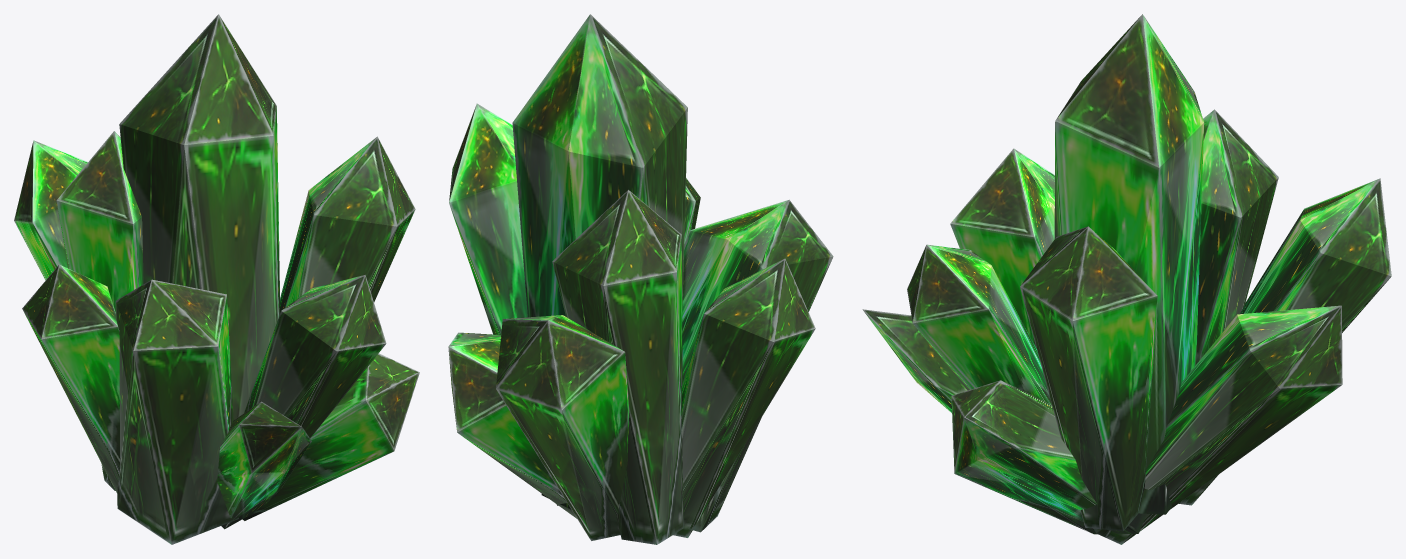
File: arcanum_shard.glb
The picture shows the model from 3 angles, left to right: view 1: azimuth 30°, elevation 25°; view 2: azimuth 150°, elevation 25°; view 3: azimuth 270°, elevation 25°; orthographic projection. The views are drawn at different scales.
Parts seen in each view (by area): view 1: Object_3.351; view 2: Object_3.351; view 3: Object_3.351.
Boxes of the visible parts, x1,y1,x2,y2 form: Object_3.351: [14, 14, 419, 544]; Object_3.351: [448, 14, 833, 544]; Object_3.351: [862, 14, 1391, 544].
Bounding box in the file's own units: 1.04 × 1.37 × 1.26.
Materials: 1 (1 with a texture image).
